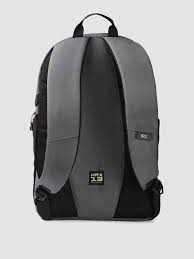backpack: (29, 12, 163, 221)
